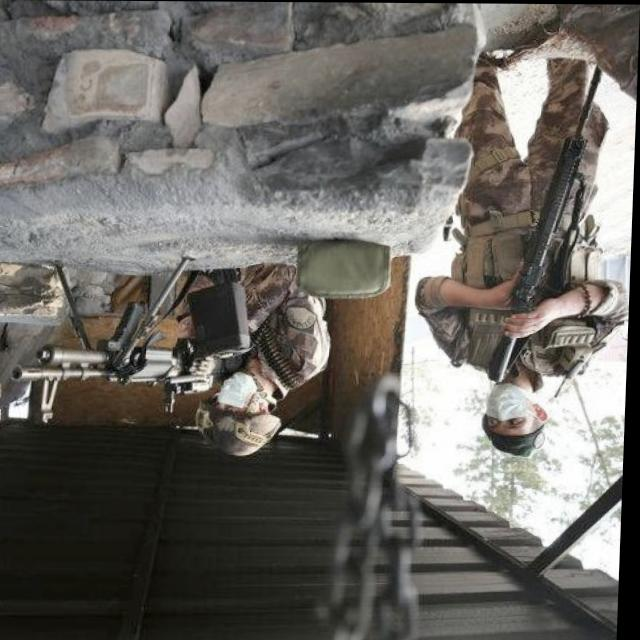poh_personel: (413, 56, 637, 458), (188, 264, 335, 461)
